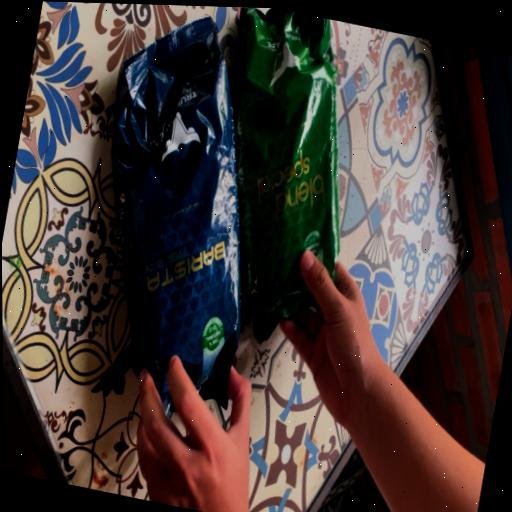cafe_hat: (110, 16, 239, 416)
cafe_xay: (233, 7, 339, 341)
